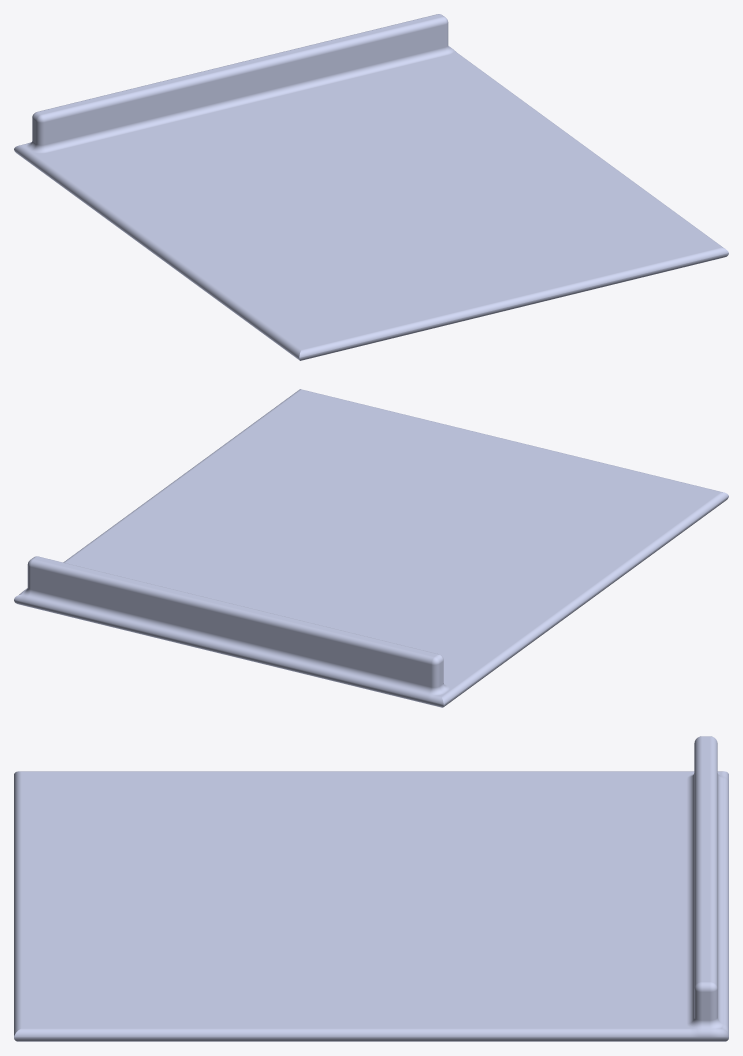
Rendered from Projector Slider.gltf.
3 renders of one model, top to bottom at view 1: azimuth 30°, elevation 25°; view 2: azimuth 150°, elevation 25°; view 3: azimuth 270°, elevation 25°, orthographic. The views are drawn at different scales.
Parts seen in each view (by area): view 1: Projector Slider; view 2: Projector Slider; view 3: Projector Slider.
Part boxes in pixels (left/top/right/bottom): Projector Slider: left=14, top=14, right=728, bottom=360; Projector Slider: left=14, top=389, right=728, bottom=707; Projector Slider: left=14, top=736, right=728, bottom=1041.
Size of the model in its own units: 0.1016 by 0.00991 by 0.1168.
